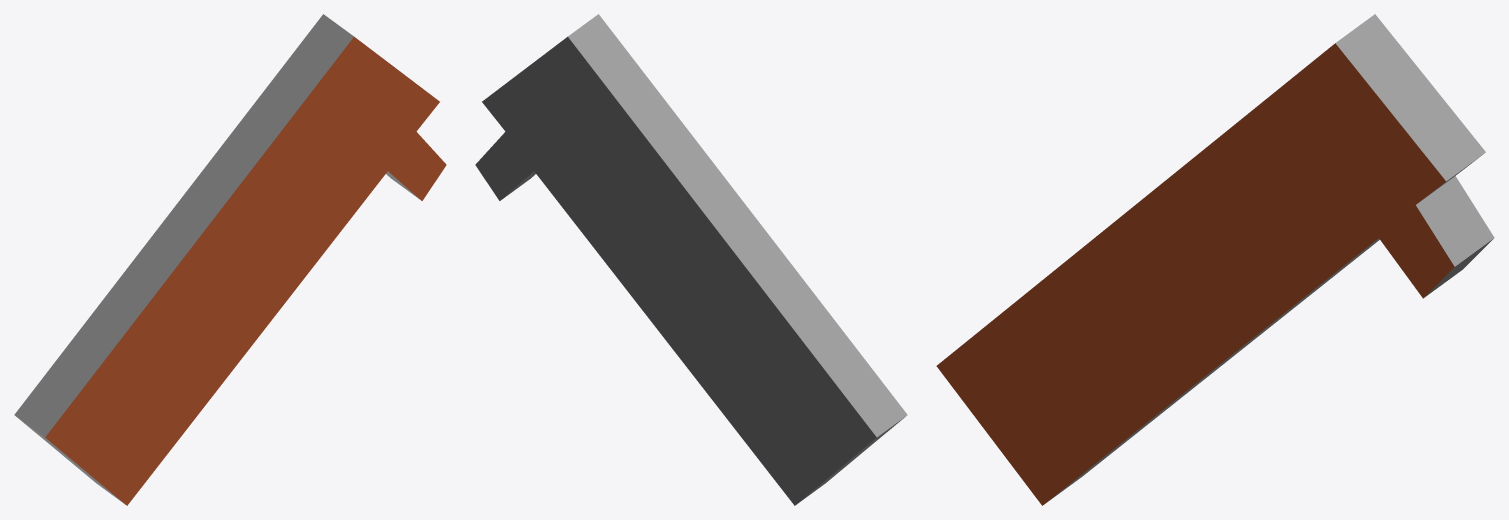
The model's file is construction_2764_assumed_A_Casa_h6m.obj.
3 renders of one model, left to right at view 1: azimuth 30°, elevation 25°; view 2: azimuth 150°, elevation 25°; view 3: azimuth 330°, elevation 25°, orthographic. The views are drawn at different scales.
Visible parts, largest first — view 1: construction_2764_assumed_A_Casa; view 2: construction_2764_assumed_A_Casa; view 3: construction_2764_assumed_A_Casa.
Boxes of the visible parts, bbox=[...] form: construction_2764_assumed_A_Casa: bbox=[14, 14, 446, 505]; construction_2764_assumed_A_Casa: bbox=[475, 14, 907, 505]; construction_2764_assumed_A_Casa: bbox=[936, 14, 1494, 505].
Bounding box in the file's own units: 45.07 × 44.39 × 6.
